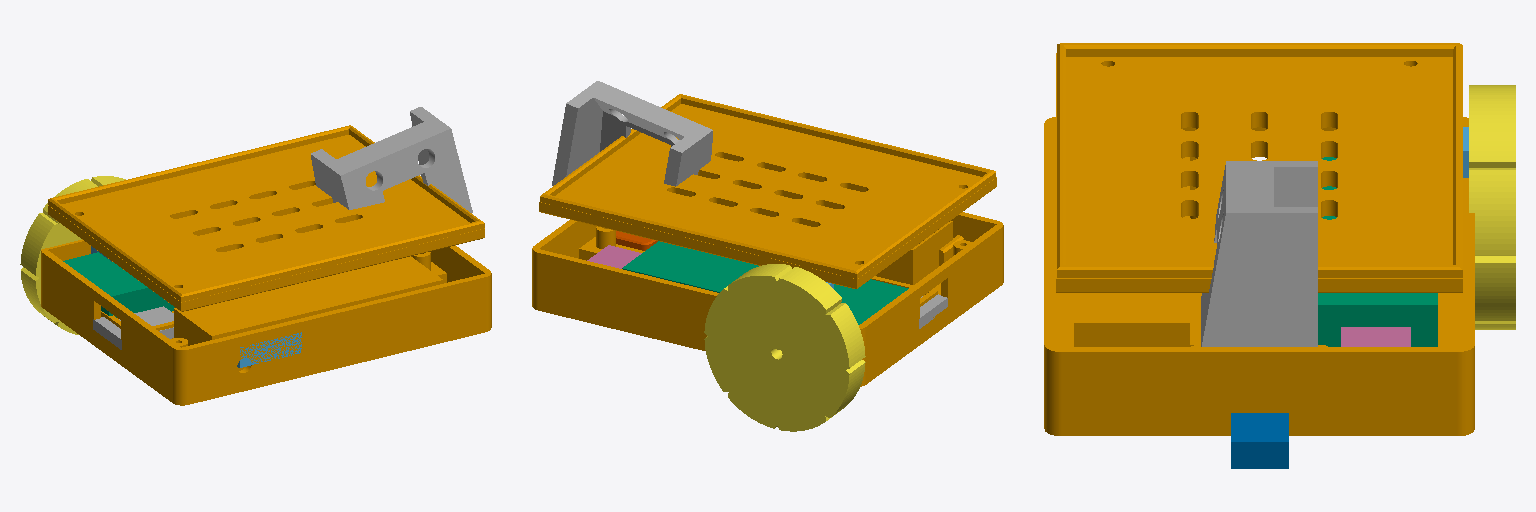
URDF robot description (rover-v1):
<?xml version="1.0" ?>
<robot name="rover-v1">
  <link name="chassis">
    <inertial>
      <origin xyz="0 0 0.008" rpy="0 0 0" />
      <mass value="0.0376877" />
      <inertia ixx="1.80022e-05" ixy="0" ixz="0" iyy="2.97482e-05" iyz="0" izz="4.61423e-05" />
    </inertial>
    <visual>
      <origin xyz="0 0 0" rpy="0 0 0" />
      <geometry>
        <mesh filename="meshes/chassis.stl" scale="0.001 0.001 0.001" />
      </geometry>
    </visual>
    <collision>
      <origin xyz="0 0 0" rpy="0 0 0" />
      <geometry>
        <mesh filename="meshes/chassis.stl" scale="0.001 0.001 0.001" />
      </geometry>
    </collision>
  </link>
  <link name="motor_left">
    <inertial>
      <origin xyz="0 0 0" rpy="0 0 0" />
      <mass value="0.0095" />
      <inertia ixx="6.14333e-07" ixy="0" ixz="0" iyy="6.49167e-07" iyz="0" izz="1.93167e-07" />
    </inertial>
    <visual>
      <origin xyz="0 0 0" rpy="0 0 0" />
      <geometry>
        <mesh filename="meshes/motor_left.stl" scale="0.001 0.001 0.001" />
      </geometry>
    </visual>
    <collision>
      <origin xyz="0 0 0" rpy="0 0 0" />
      <geometry>
        <mesh filename="meshes/motor_left.stl" scale="0.001 0.001 0.001" />
      </geometry>
    </collision>
  </link>
  <link name="motor_right">
    <inertial>
      <origin xyz="0 0 0" rpy="0 0 0" />
      <mass value="0.0095" />
      <inertia ixx="6.14333e-07" ixy="0" ixz="0" iyy="6.49167e-07" iyz="0" izz="1.93167e-07" />
    </inertial>
    <visual>
      <origin xyz="0 0 0" rpy="0 0 0" />
      <geometry>
        <mesh filename="meshes/motor_right.stl" scale="0.001 0.001 0.001" />
      </geometry>
    </visual>
    <collision>
      <origin xyz="0 0 0" rpy="0 0 0" />
      <geometry>
        <mesh filename="meshes/motor_right.stl" scale="0.001 0.001 0.001" />
      </geometry>
    </collision>
  </link>
  <link name="wheel_1">
    <inertial>
      <origin xyz="0 0 0.007" rpy="0 0 0" />
      <mass value="0.0141252" />
      <inertia ixx="2.30443e-06" ixy="0" ixz="0" iyy="2.30443e-06" iyz="0" izz="4.14743e-06" />
    </inertial>
    <visual>
      <origin xyz="0 0 0" rpy="0 0 0" />
      <geometry>
        <mesh filename="meshes/wheel_1.stl" scale="0.001 0.001 0.001" />
      </geometry>
    </visual>
    <collision>
      <origin xyz="0 0 0" rpy="0 0 0" />
      <geometry>
        <mesh filename="meshes/wheel_1.stl" scale="0.001 0.001 0.001" />
      </geometry>
    </collision>
  </link>
  <link name="wheel_2">
    <inertial>
      <origin xyz="0 0 0.007" rpy="0 0 0" />
      <mass value="0.0141252" />
      <inertia ixx="2.30443e-06" ixy="0" ixz="0" iyy="2.30443e-06" iyz="0" izz="4.14743e-06" />
    </inertial>
    <visual>
      <origin xyz="0 0 0" rpy="0 0 0" />
      <geometry>
        <mesh filename="meshes/wheel_2.stl" scale="0.001 0.001 0.001" />
      </geometry>
    </visual>
    <collision>
      <origin xyz="0 0 0" rpy="0 0 0" />
      <geometry>
        <mesh filename="meshes/wheel_2.stl" scale="0.001 0.001 0.001" />
      </geometry>
    </collision>
  </link>
  <link name="caster_mount">
    <inertial>
      <origin xyz="0 0 0.004" rpy="0 0 0" />
      <mass value="0.00253952" />
      <inertia ixx="1e-07" ixy="0" ixz="0" iyy="1e-07" iyz="0" izz="1.08353e-07" />
    </inertial>
    <visual>
      <origin xyz="0 0 0" rpy="0 0 0" />
      <geometry>
        <mesh filename="meshes/caster_mount.stl" scale="0.001 0.001 0.001" />
      </geometry>
    </visual>
    <collision>
      <origin xyz="0 0 0" rpy="0 0 0" />
      <geometry>
        <mesh filename="meshes/caster_mount.stl" scale="0.001 0.001 0.001" />
      </geometry>
    </collision>
  </link>
  <link name="m3_ball_6mm">
    <inertial>
      <origin xyz="0 0 0" rpy="0 0 0" />
      <mass value="0.001" />
      <inertia ixx="1e-07" ixy="0" ixz="0" iyy="1e-07" iyz="0" izz="1e-07" />
    </inertial>
    <visual>
      <origin xyz="0 0 0" rpy="0 0 0" />
      <geometry>
        <mesh filename="meshes/m3_ball_6mm.stl" scale="0.001 0.001 0.001" />
      </geometry>
    </visual>
    <collision>
      <origin xyz="0 0 0" rpy="0 0 0" />
      <geometry>
        <mesh filename="meshes/m3_ball_6mm.stl" scale="0.001 0.001 0.001" />
      </geometry>
    </collision>
  </link>
  <link name="mdrv">
    <inertial>
      <origin xyz="0 0 0" rpy="0 0 0" />
      <mass value="0.002" />
      <inertia ixx="1e-07" ixy="0" ixz="0" iyy="1e-07" iyz="0" izz="1.04167e-07" />
    </inertial>
    <visual>
      <origin xyz="0 0 0" rpy="0 0 0" />
      <geometry>
        <mesh filename="meshes/mdrv.stl" scale="0.001 0.001 0.001" />
      </geometry>
    </visual>
    <collision>
      <origin xyz="0 0 0" rpy="0 0 0" />
      <geometry>
        <mesh filename="meshes/mdrv.stl" scale="0.001 0.001 0.001" />
      </geometry>
    </collision>
  </link>
  <link name="pwr">
    <inertial>
      <origin xyz="0 0 0" rpy="0 0 0" />
      <mass value="0.025" />
      <inertia ixx="1.30208e-06" ixy="0" ixz="0" iyy="1.06771e-05" iyz="0" izz="1.10417e-05" />
    </inertial>
    <visual>
      <origin xyz="0 0 0" rpy="0 0 0" />
      <geometry>
        <mesh filename="meshes/pwr.stl" scale="0.001 0.001 0.001" />
      </geometry>
    </visual>
    <collision>
      <origin xyz="0 0 0" rpy="0 0 0" />
      <geometry>
        <mesh filename="meshes/pwr.stl" scale="0.001 0.001 0.001" />
      </geometry>
    </collision>
  </link>
  <link name="sw">
    <inertial>
      <origin xyz="0 0 0" rpy="0 0 0" />
      <mass value="0.001" />
      <inertia ixx="1e-07" ixy="0" ixz="0" iyy="1e-07" iyz="0" izz="1e-07" />
    </inertial>
    <visual>
      <origin xyz="0 0 0" rpy="0 0 0" />
      <geometry>
        <mesh filename="meshes/sw.stl" scale="0.001 0.001 0.001" />
      </geometry>
    </visual>
    <collision>
      <origin xyz="0 0 0" rpy="0 0 0" />
      <geometry>
        <mesh filename="meshes/sw.stl" scale="0.001 0.001 0.001" />
      </geometry>
    </collision>
  </link>
  <link name="core">
    <inertial>
      <origin xyz="0 0 0" rpy="0 0 0" />
      <mass value="0.01" />
      <inertia ixx="6.61875e-07" ixy="0" ixz="0" iyy="4.0875e-06" iyz="0" izz="4.50938e-06" />
    </inertial>
    <visual>
      <origin xyz="0 0 0" rpy="0 0 0" />
      <geometry>
        <mesh filename="meshes/core.stl" scale="0.001 0.001 0.001" />
      </geometry>
    </visual>
    <collision>
      <origin xyz="0 0 0" rpy="0 0 0" />
      <geometry>
        <mesh filename="meshes/core.stl" scale="0.001 0.001 0.001" />
      </geometry>
    </collision>
  </link>
  <link name="range">
    <inertial>
      <origin xyz="0 0 0" rpy="0 0 0" />
      <mass value="0.001" />
      <inertia ixx="1e-07" ixy="0" ixz="0" iyy="1e-07" iyz="0" izz="1e-07" />
    </inertial>
    <visual>
      <origin xyz="0 0 0" rpy="0 0 0" />
      <geometry>
        <mesh filename="meshes/range.stl" scale="0.001 0.001 0.001" />
      </geometry>
    </visual>
    <collision>
      <origin xyz="0 0 0" rpy="0 0 0" />
      <geometry>
        <mesh filename="meshes/range.stl" scale="0.001 0.001 0.001" />
      </geometry>
    </collision>
  </link>
  <link name="line">
    <inertial>
      <origin xyz="0 0 0" rpy="0 0 0" />
      <mass value="0.003" />
      <inertia ixx="1e-07" ixy="0" ixz="0" iyy="4.0625e-07" iyz="0" izz="4.25e-07" />
    </inertial>
    <visual>
      <origin xyz="0 0 0" rpy="0 0 0" />
      <geometry>
        <mesh filename="meshes/line.stl" scale="0.001 0.001 0.001" />
      </geometry>
    </visual>
    <collision>
      <origin xyz="0 0 0" rpy="0 0 0" />
      <geometry>
        <mesh filename="meshes/line.stl" scale="0.001 0.001 0.001" />
      </geometry>
    </collision>
  </link>
  <link name="eyes">
    <inertial>
      <origin xyz="0 0 0" rpy="0 0 0" />
      <mass value="0.001" />
      <inertia ixx="1e-07" ixy="0" ixz="0" iyy="1e-07" iyz="0" izz="1e-07" />
    </inertial>
    <visual>
      <origin xyz="0 0 0" rpy="0 0 0" />
      <geometry>
        <mesh filename="meshes/eyes.stl" scale="0.001 0.001 0.001" />
      </geometry>
    </visual>
    <collision>
      <origin xyz="0 0 0" rpy="0 0 0" />
      <geometry>
        <mesh filename="meshes/eyes.stl" scale="0.001 0.001 0.001" />
      </geometry>
    </collision>
  </link>
  <link name="buzz">
    <inertial>
      <origin xyz="0 0 0" rpy="0 0 0" />
      <mass value="0.002" />
      <inertia ixx="1e-07" ixy="0" ixz="0" iyy="1e-07" iyz="0" izz="1e-07" />
    </inertial>
    <visual>
      <origin xyz="0 0 0" rpy="0 0 0" />
      <geometry>
        <mesh filename="meshes/buzz.stl" scale="0.001 0.001 0.001" />
      </geometry>
    </visual>
    <collision>
      <origin xyz="0 0 0" rpy="0 0 0" />
      <geometry>
        <mesh filename="meshes/buzz.stl" scale="0.001 0.001 0.001" />
      </geometry>
    </collision>
  </link>
  <link name="head">
    <inertial>
      <origin xyz="0 0 0.012" rpy="0 0 0" />
      <mass value="0.00757252" />
      <inertia ixx="6.15898e-07" ixy="0" ixz="0" iyy="1.09297e-06" iyz="0" izz="9.81903e-07" />
    </inertial>
    <visual>
      <origin xyz="0 0 0" rpy="0 0 0" />
      <geometry>
        <mesh filename="meshes/head.stl" scale="0.001 0.001 0.001" />
      </geometry>
    </visual>
    <collision>
      <origin xyz="0 0 0" rpy="0 0 0" />
      <geometry>
        <mesh filename="meshes/head.stl" scale="0.001 0.001 0.001" />
      </geometry>
    </collision>
  </link>
  <link name="lid">
    <inertial>
      <origin xyz="0 0 0.0025" rpy="0 0 0" />
      <mass value="0.024065" />
      <inertia ixx="9.87666e-06" ixy="0" ixz="0" iyy="1.7024e-05" iyz="0" izz="2.68004e-05" />
    </inertial>
    <visual>
      <origin xyz="0 0 0" rpy="0 0 0" />
      <geometry>
        <mesh filename="meshes/lid.stl" scale="0.001 0.001 0.001" />
      </geometry>
    </visual>
    <collision>
      <origin xyz="0 0 0" rpy="0 0 0" />
      <geometry>
        <mesh filename="meshes/lid.stl" scale="0.001 0.001 0.001" />
      </geometry>
    </collision>
  </link>
  <joint name="buzz_joint" type="fixed">
    <parent link="chassis" />
    <child link="buzz" />
    <origin xyz="0.032 0.02 0.006" rpy="0 0 0" />
  </joint>
  <joint name="caster_mount_joint" type="fixed">
    <parent link="chassis" />
    <child link="caster_mount" />
    <origin xyz="0.038 0 0.002" rpy="0 0 0" />
  </joint>
  <joint name="core_joint" type="fixed">
    <parent link="chassis" />
    <child link="core" />
    <origin xyz="-0.01 0.018 0.008" rpy="0 0 0" />
  </joint>
  <joint name="eyes_joint" type="fixed">
    <parent link="chassis" />
    <child link="eyes" />
    <origin xyz="0.042 0 0.024" rpy="0 -0.174533 0" />
  </joint>
  <joint name="head_joint" type="fixed">
    <parent link="chassis" />
    <child link="head" />
    <origin xyz="0.04 0 0.018" rpy="0 -0.174533 0" />
  </joint>
  <joint name="lid_joint" type="fixed">
    <parent link="chassis" />
    <child link="lid" />
    <origin xyz="0 0 0.026" rpy="0 0 0" />
  </joint>
  <joint name="line_joint" type="fixed">
    <parent link="chassis" />
    <child link="line" />
    <origin xyz="0.04 0 0.002" rpy="0 0 0" />
  </joint>
  <joint name="m3_ball_6mm_joint" type="fixed">
    <parent link="chassis" />
    <child link="m3_ball_6mm" />
    <origin xyz="0.038 0 0" rpy="0 0 0" />
  </joint>
  <joint name="mdrv_joint" type="fixed">
    <parent link="chassis" />
    <child link="mdrv" />
    <origin xyz="-0.038 0 0.006" rpy="0 0 0" />
  </joint>
  <joint name="motor_left_joint" type="fixed">
    <parent link="chassis" />
    <child link="motor_left" />
    <origin xyz="-0.028 0.03 0.008" rpy="0 0 1.5708" />
  </joint>
  <joint name="motor_right_joint" type="fixed">
    <parent link="chassis" />
    <child link="motor_right" />
    <origin xyz="-0.028 -0.03 0.008" rpy="0 0 -1.5708" />
  </joint>
  <joint name="pwr_joint" type="fixed">
    <parent link="chassis" />
    <child link="pwr" />
    <origin xyz="0 -0.022 0.008" rpy="0 0 0" />
  </joint>
  <joint name="range_joint" type="fixed">
    <parent link="chassis" />
    <child link="range" />
    <origin xyz="0.042 0 0.02" rpy="0 -0.174533 0" />
  </joint>
  <joint name="sw_joint" type="fixed">
    <parent link="chassis" />
    <child link="sw" />
    <origin xyz="-0.02 -0.034 0.01" rpy="0 0 0" />
  </joint>
  <joint name="wheel_1_joint" type="continuous">
    <parent link="chassis" />
    <child link="wheel_1" />
    <origin xyz="-0.028 0.044 0.008" rpy="1.5708 0 0" />
    <axis xyz="0 -1 0" />
  </joint>
  <joint name="wheel_2_joint" type="continuous">
    <parent link="chassis" />
    <child link="wheel_2" />
    <origin xyz="-0.028 -0.044 0.008" rpy="-1.5708 0 0" />
    <axis xyz="0 1 0" />
  </joint>
</robot>

--- Facts derived from the render (not from the file) ---
Views: 3 orthographic renders of the robot side by side, from view 1: azimuth 30°, elevation 25°; view 2: azimuth 150°, elevation 25°; view 3: azimuth 270°, elevation 25°.
Model rover-v1 with 17 links and 16 joints (2 continuous, 14 fixed), rooted at chassis, posed all joints at 0.
Links seen in each view (by area): view 1: lid, chassis, pwr, head, wheel_1, core, mdrv, sw; view 2: lid, chassis, wheel_1, head, core, pwr, buzz, mdrv; view 3: lid, chassis, head, wheel_1, pwr, core, line, buzz.
Boxes of the visible links, x1=… form: lid: x1=48, y1=125, x2=484, y2=311; chassis: x1=41, y1=240, x2=491, y2=405; pwr: x1=174, y1=256, x2=442, y2=370; head: x1=311, y1=107, x2=472, y2=212; wheel_1: x1=20, y1=176, x2=125, y2=334; core: x1=63, y1=252, x2=174, y2=317; mdrv: x1=93, y1=306, x2=173, y2=349; sw: x1=237, y1=332, x2=301, y2=367; lid: x1=539, y1=94, x2=996, y2=288; chassis: x1=532, y1=212, x2=1003, y2=386; wheel_1: x1=704, y1=264, x2=865, y2=431; head: x1=552, y1=81, x2=712, y2=186; core: x1=622, y1=241, x2=908, y2=324; pwr: x1=876, y1=221, x2=952, y2=284; buzz: x1=587, y1=245, x2=641, y2=268; mdrv: x1=919, y1=294, x2=947, y2=328; lid: x1=1056, y1=43, x2=1462, y2=292; chassis: x1=1044, y1=117, x2=1474, y2=435; head: x1=1201, y1=161, x2=1317, y2=346; wheel_1: x1=1469, y1=85, x2=1515, y2=329; pwr: x1=1074, y1=157, x2=1189, y2=346; core: x1=1318, y1=157, x2=1437, y2=346; line: x1=1231, y1=413, x2=1288, y2=468; buzz: x1=1341, y1=327, x2=1410, y2=346.
Bounding box of the posed robot: 0.109 × 0.081 × 0.0576 m (x, y, z).
Meshes: 17 distinct files referenced, 15 mesh visuals loaded (15 binary STL); not drawn: 2 (reference not matched to a file when rendering).
